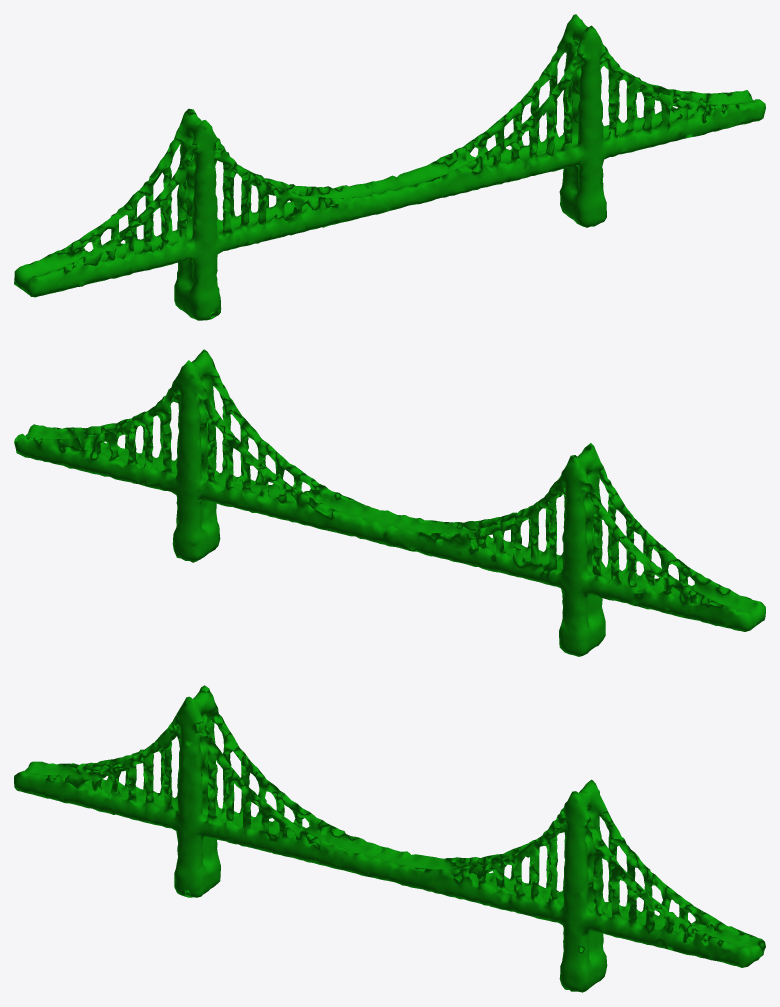
The model's file is bridge.obj.
The picture shows the model from 3 angles, top to bottom: view 1: azimuth 30°, elevation 25°; view 2: azimuth 150°, elevation 25°; view 3: azimuth 330°, elevation 25°; orthographic projection.
Visible parts, largest first — view 1: Default; view 2: Default; view 3: Default.
Part boxes in pixels (<box>): Default: <box>14,14,765,320</box>; Default: <box>14,349,765,656</box>; Default: <box>14,685,765,992</box>.
Bounding box in the file's own units: 9.16 × 2.38 × 0.5716.
